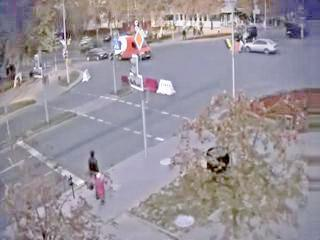Car: (241, 40, 277, 55), (231, 28, 256, 42), (88, 48, 113, 61)
